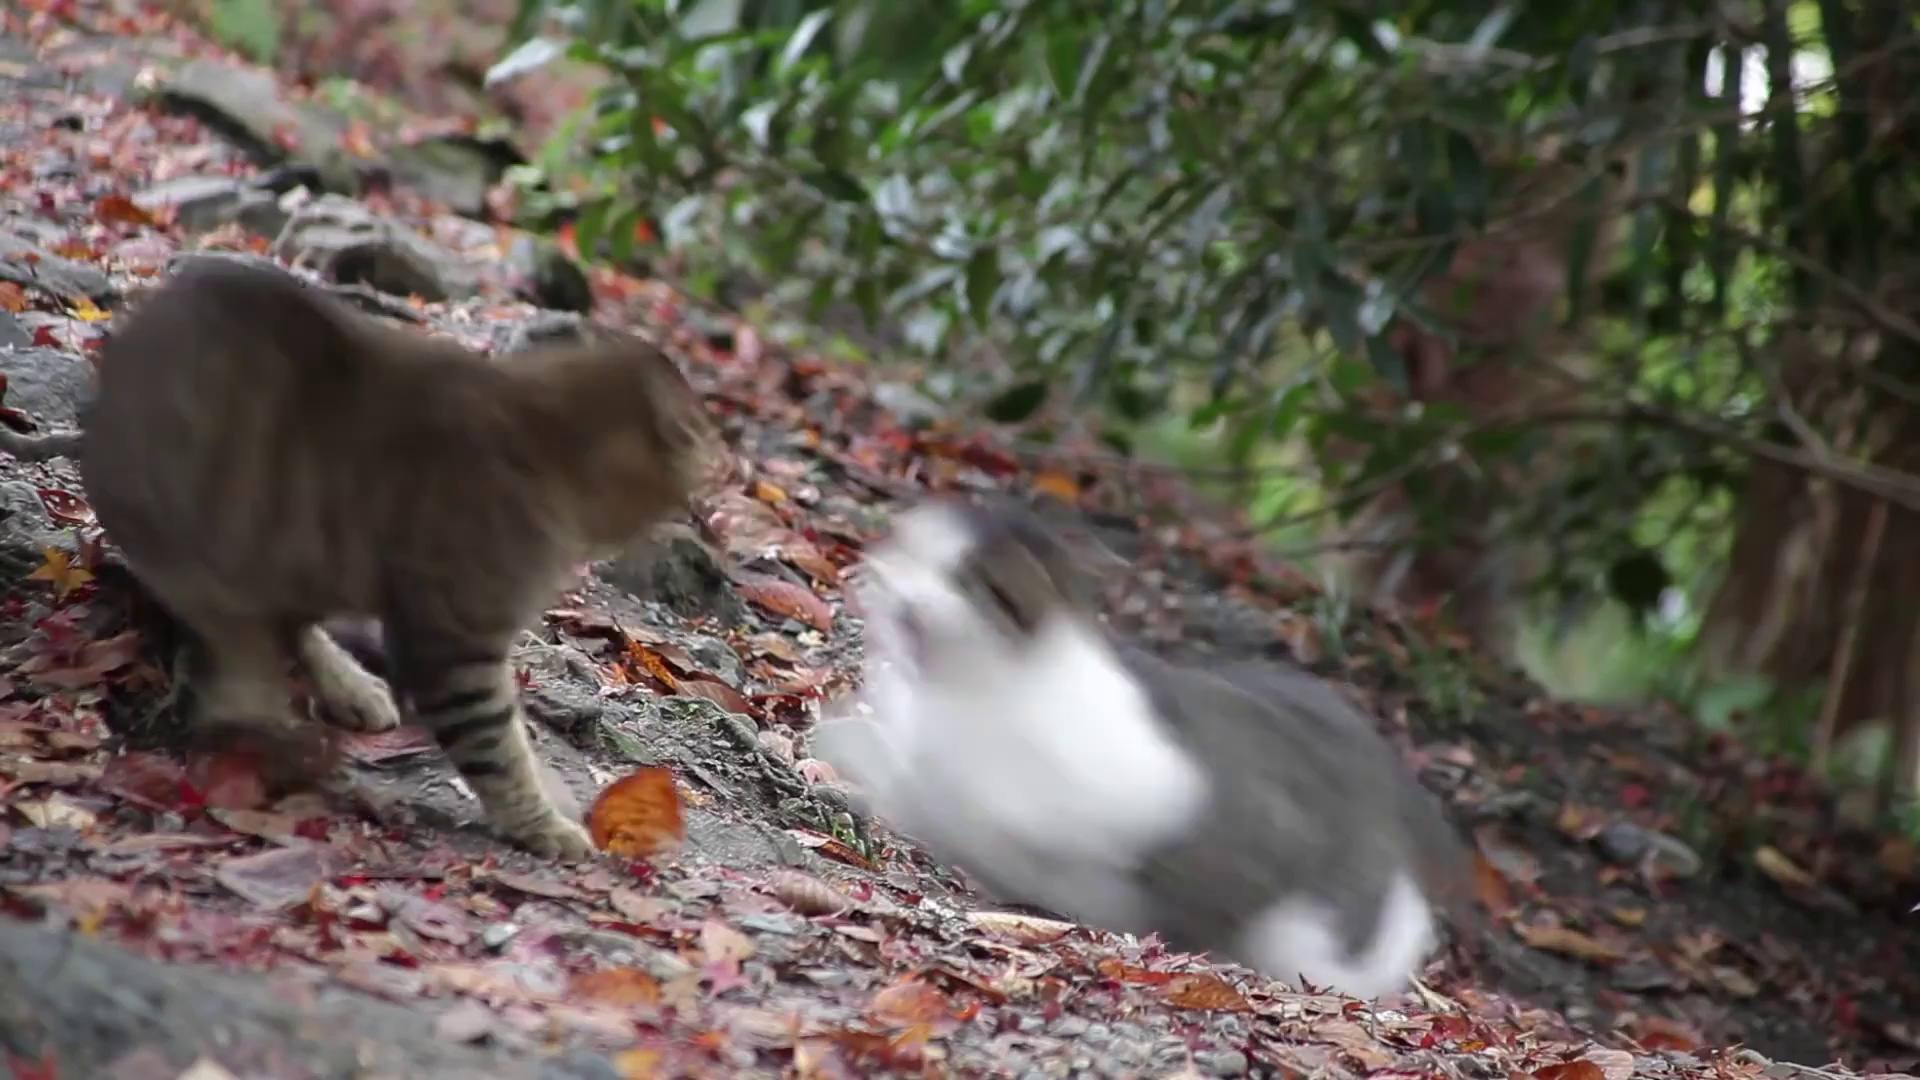black-white: (807, 493, 1437, 992)
pure black: (87, 251, 721, 857)
